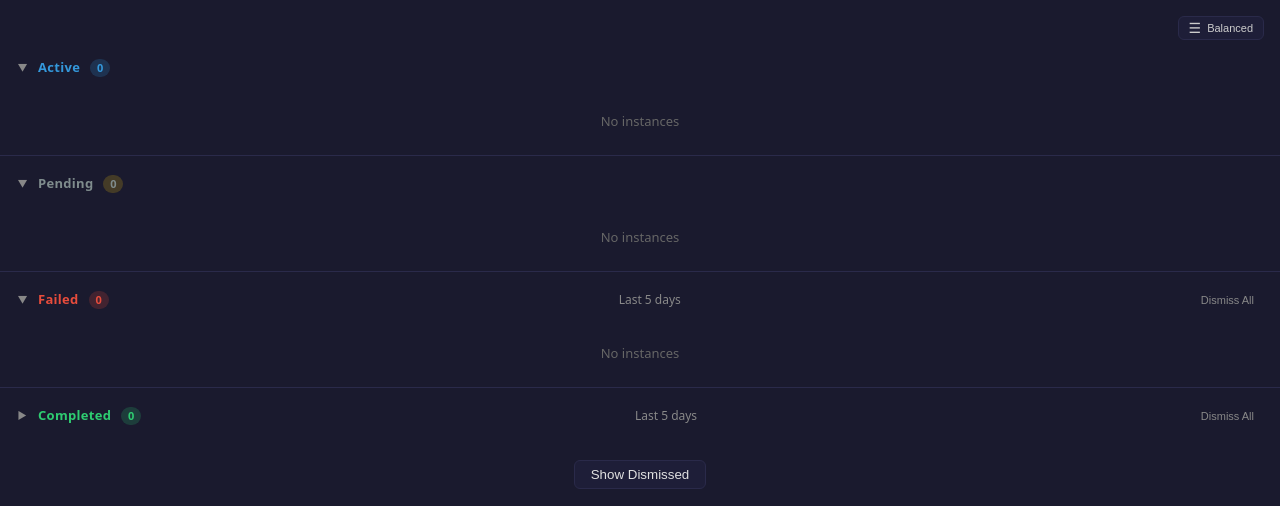
Scenario: QueueView show/hide dismissed toggle › starts as [Show Dismissed] and flips to [Hide Dismissed]; passes includeDismissed when shown
The image size is (1280, 506).
Click the button "Show Dismissed". click: [640, 474]
box: 574,460 -> 706,488
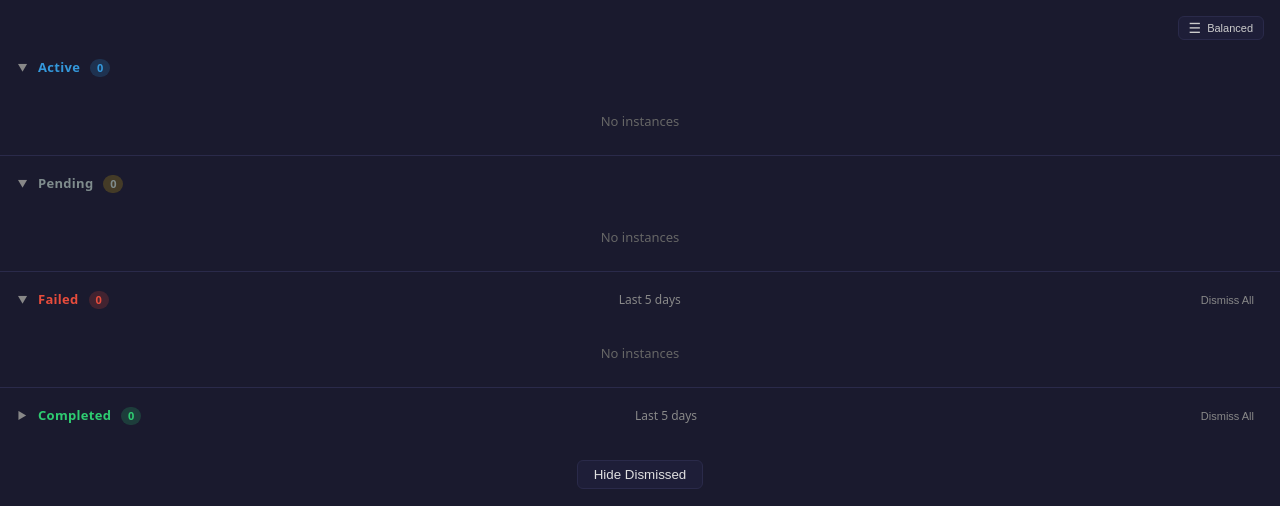
Check: the button "Hide Dismissed" is shown, box 577,460 -> 703,488
